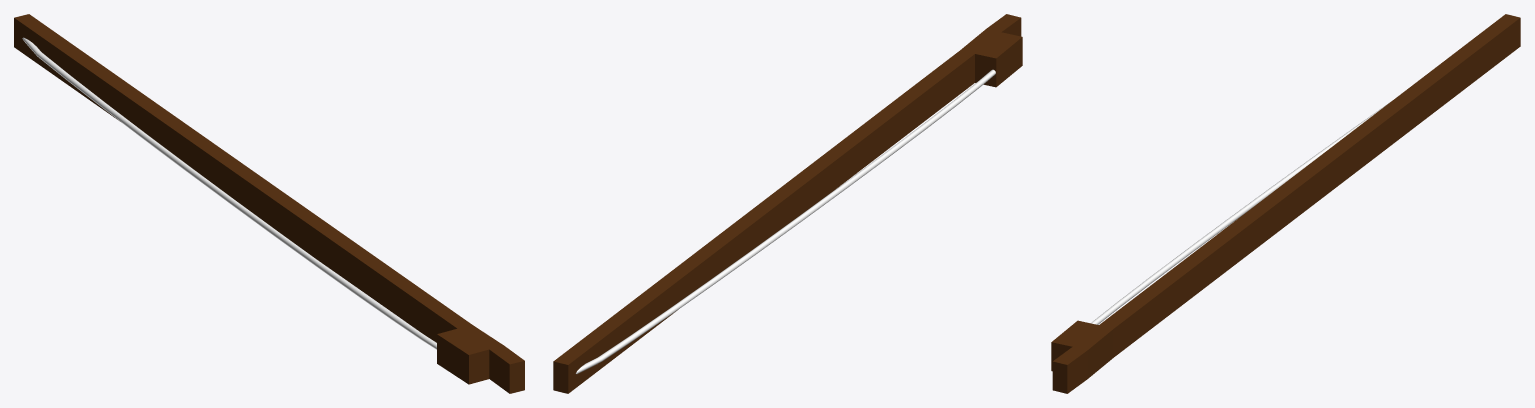
The model's file is Arco_Violino.fbx.
3 views of the same model, side by side, from view 1: azimuth 30°, elevation 25°; view 2: azimuth 150°, elevation 25°; view 3: azimuth 330°, elevation 25° (orthographic). The views are drawn at different scales.
Parts seen in each view (by area): view 1: Cube; view 2: Cube; view 3: Cube.
Boxes of the visible parts, box(x1,y1,x2,y2) form: Cube: box(14, 14, 524, 393); Cube: box(553, 14, 1022, 393); Cube: box(1051, 14, 1520, 393).
Bounding box in the file's own units: 33.5 × 21.48 × 632.
